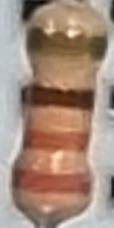Brown: (25, 84, 95, 113)
Orange: (11, 163, 95, 199), (22, 128, 95, 156)
Side-Gold: (27, 27, 109, 67)
